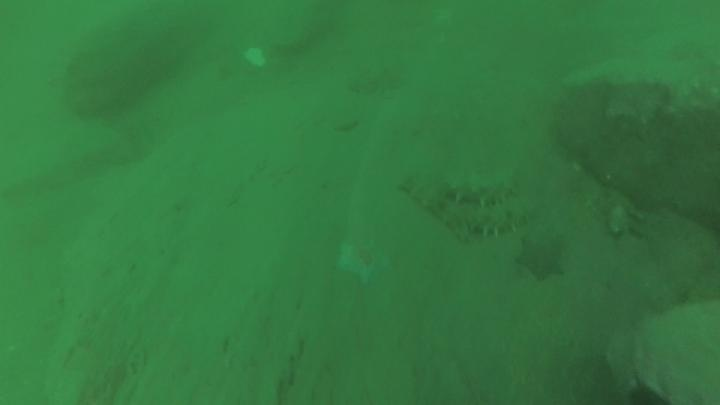holothurian: (398, 178, 466, 248), (440, 167, 522, 210), (458, 196, 534, 241), (346, 60, 409, 98)
starfish: (333, 236, 393, 287), (512, 232, 569, 284)
